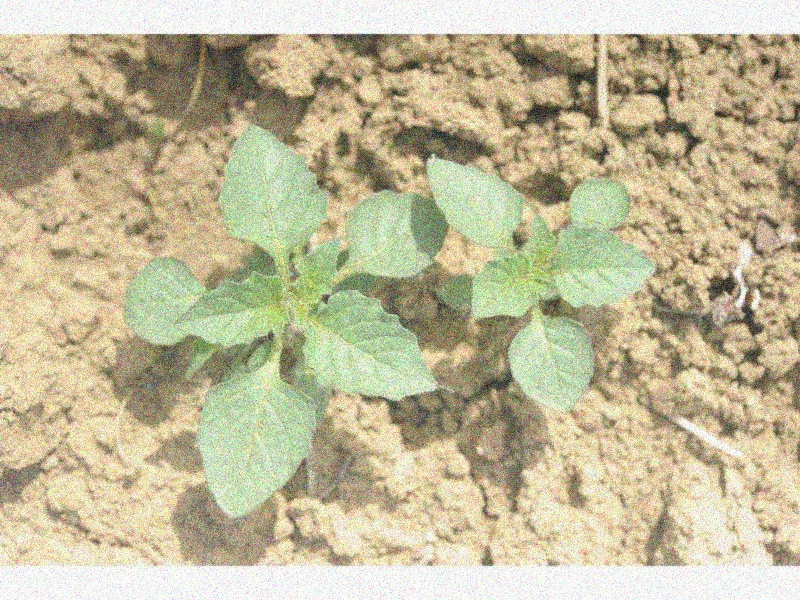nightshade: (125, 125, 445, 519), (425, 154, 654, 412)
